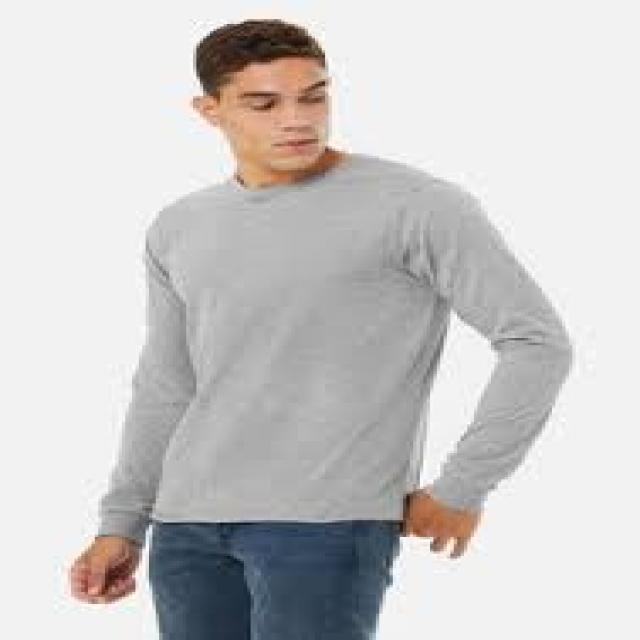plain: (87, 168, 580, 527)
